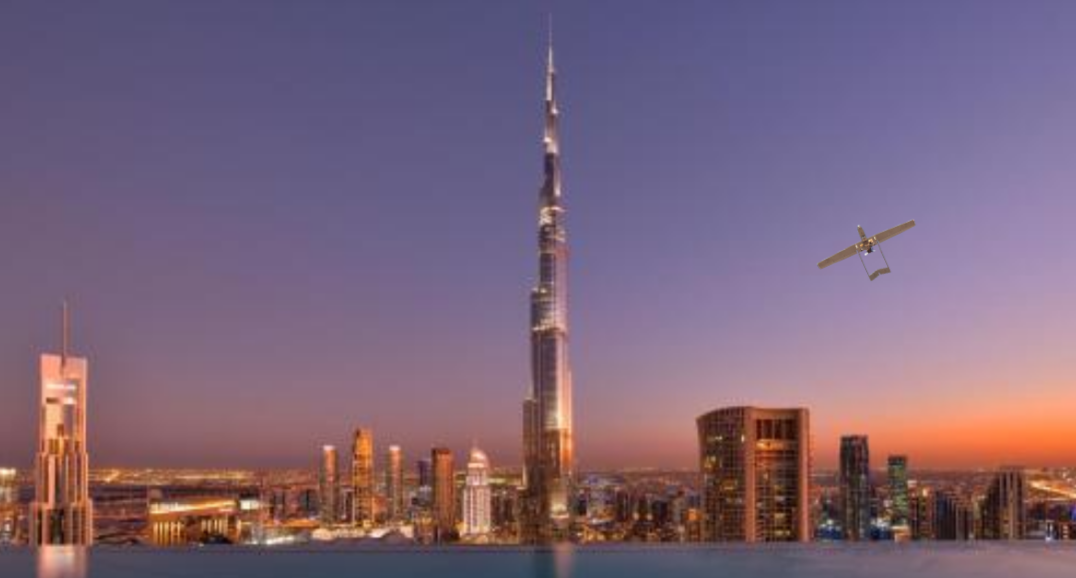military drone: (817, 219, 916, 281)
